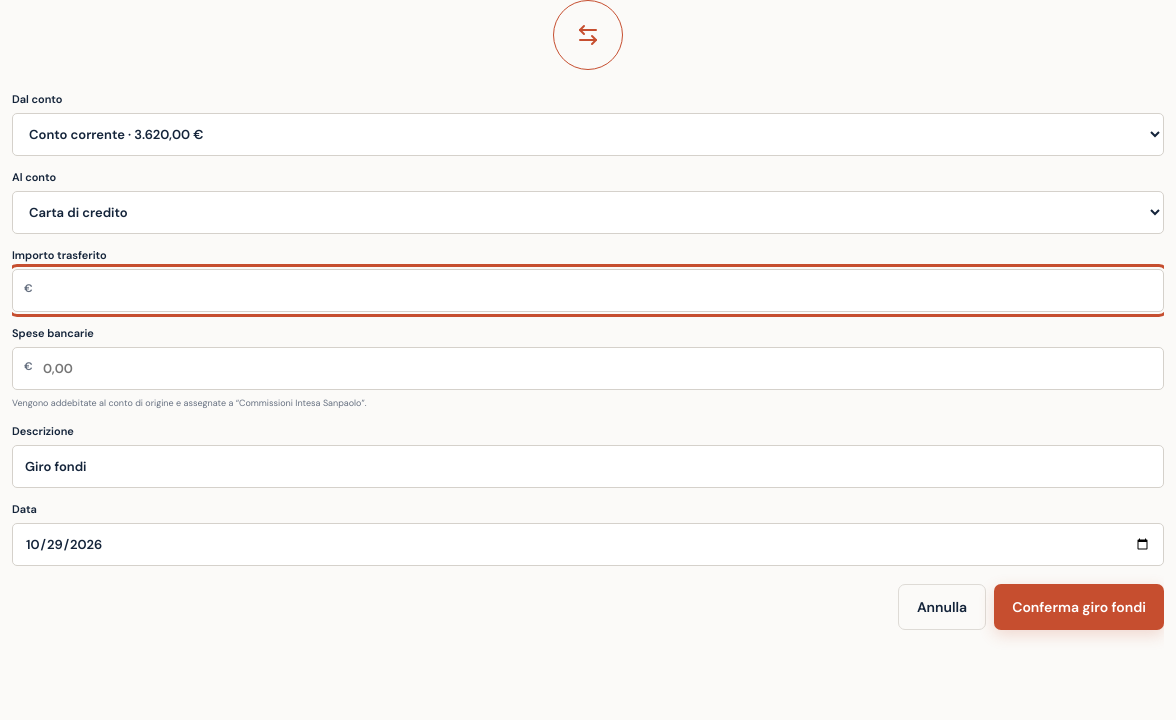
Test: TransferForm › spiega perché non può spostare denaro verso lo stesso conto
The width and height of the screenshot is (1176, 720).
Select "simone-bank" in the dropdown labelled "Al conto": (588,212) [12,191,1164,234]
In the field labelled "Importo": (588,290) [12,269,1164,312], type "12"
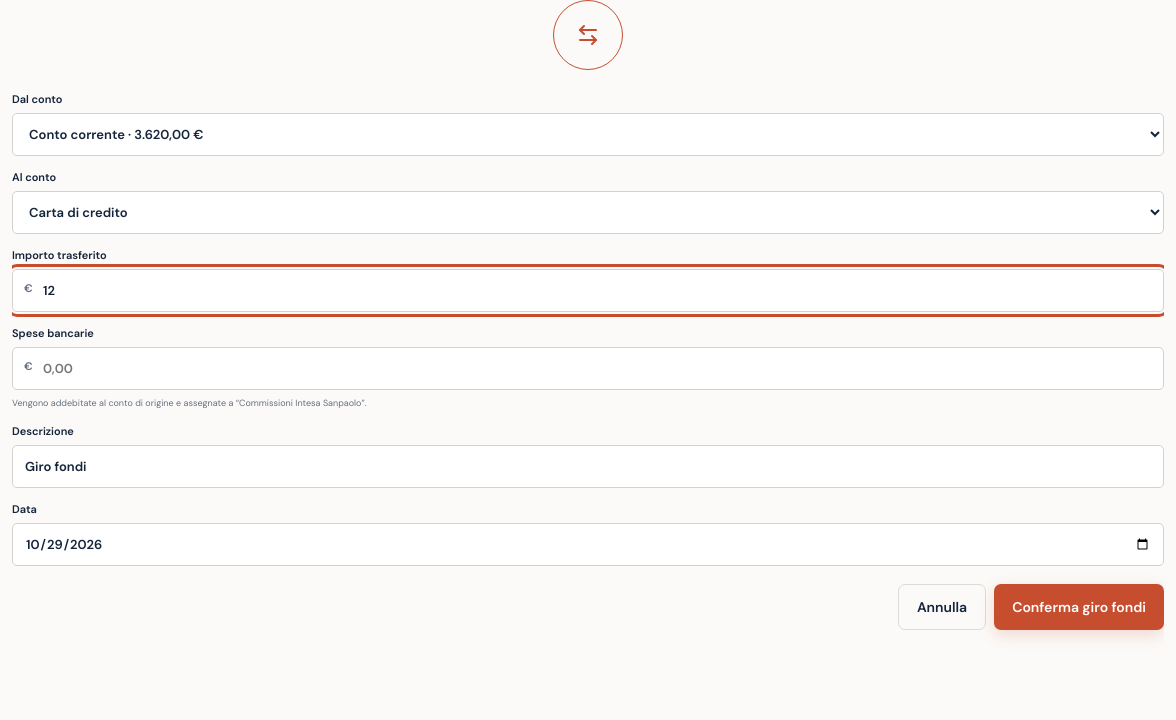
Click the button "Conferma giro fondi": (1079,607) [994,584,1164,630]
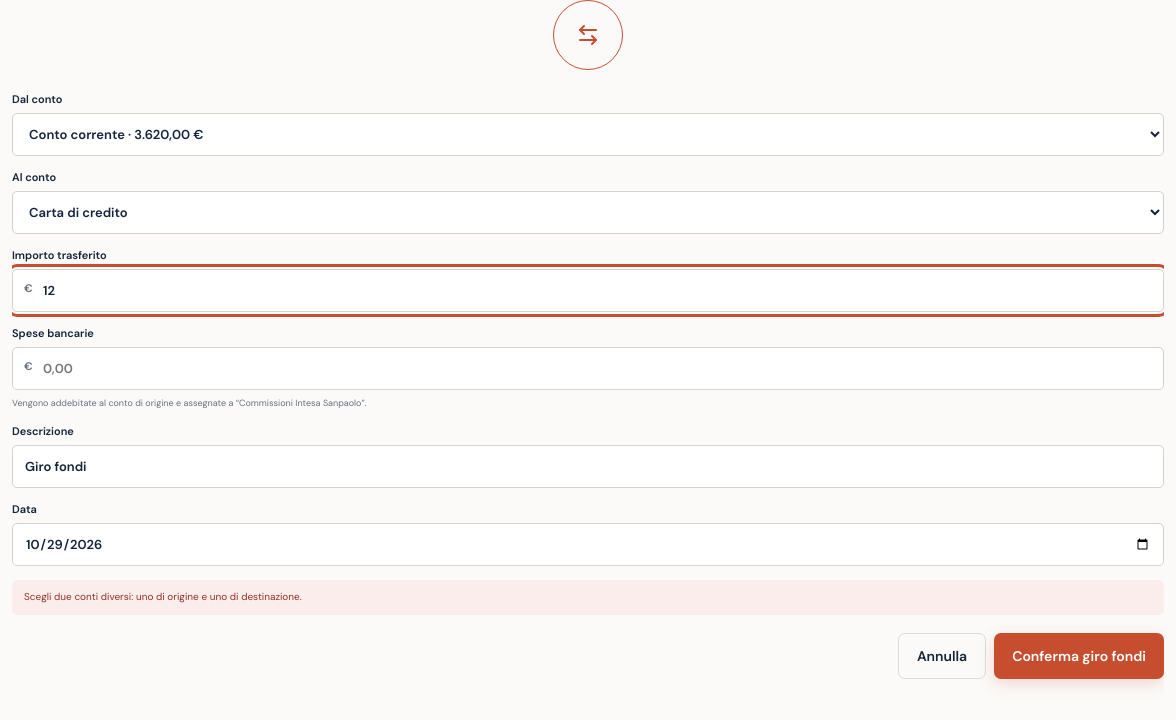
Result: the message shows "Scegli due conti diversi" at [24,590,302,603]
